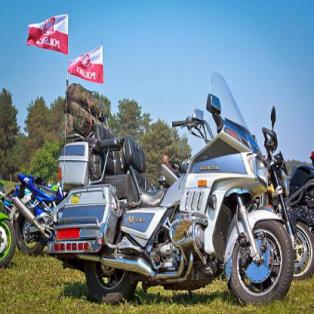Motocicleta: (49, 84, 299, 307)
